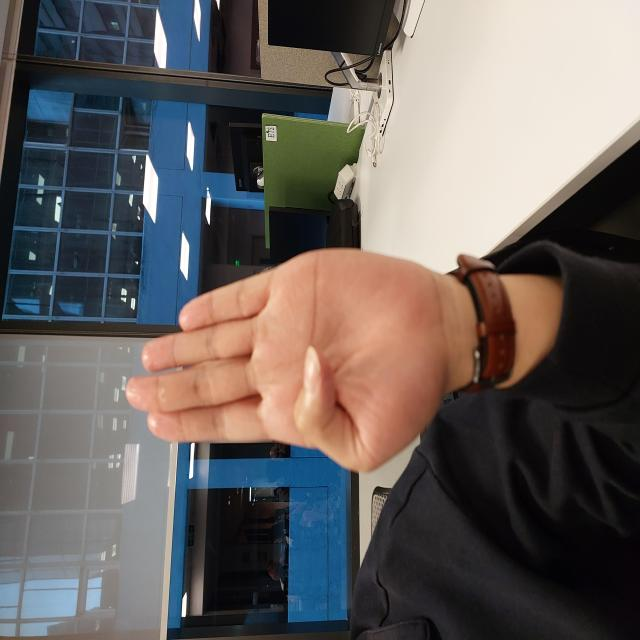B: (164, 124, 392, 443)
